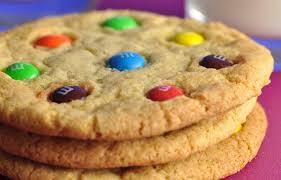mm: (48, 85, 90, 103), (106, 51, 145, 70), (3, 62, 40, 81), (146, 84, 184, 102), (34, 33, 73, 49), (102, 15, 138, 32), (201, 54, 236, 69), (176, 30, 204, 47)
